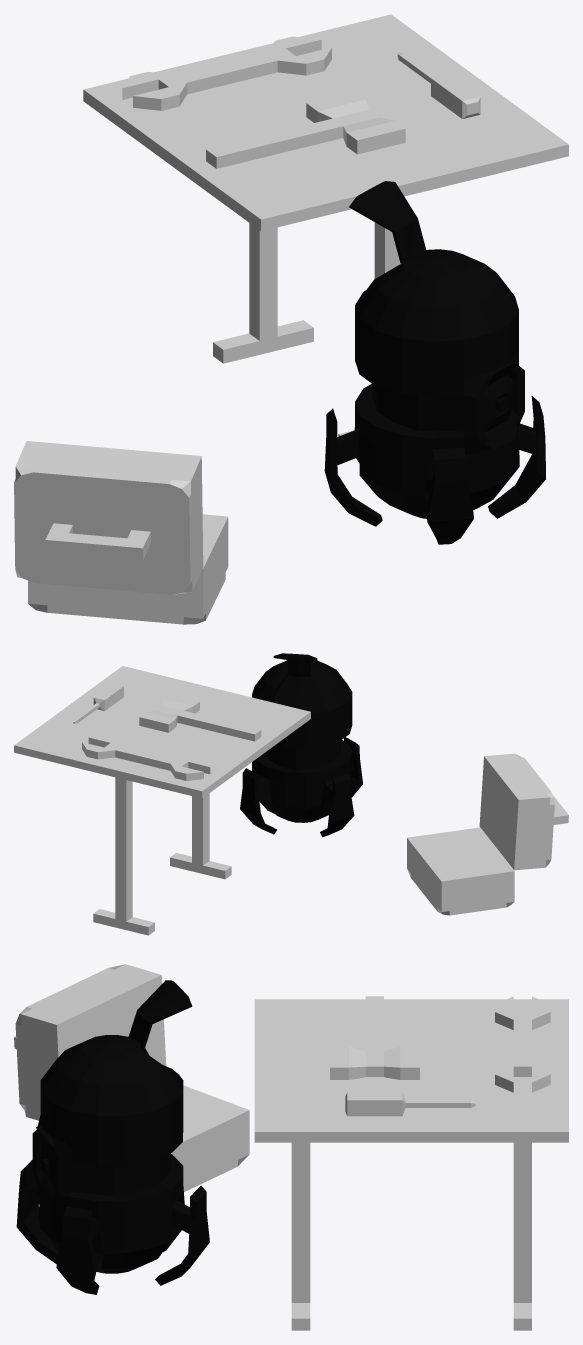
Rendered from Hex_Skills_Tile_No_Model.glb.
3 renders of one model, top to bottom at view 1: azimuth 30°, elevation 25°; view 2: azimuth 150°, elevation 25°; view 3: azimuth 270°, elevation 25°, orthographic. The views are drawn at different scales.
Visible parts, largest first — view 1: Sphere, Plane.001, Cube, Plane.002, Plane; view 2: Plane.001, Sphere, Cube, Plane.002, Plane; view 3: Sphere, Plane.001, Cube, Plane.002, Plane.
Boxes of the visible parts, left/top/right/bottom form: Sphere: left=324, top=181, right=545, bottom=544; Plane.001: left=83, top=14, right=568, bottom=231; Cube: left=14, top=441, right=228, bottom=624; Plane.002: left=122, top=36, right=480, bottom=168; Plane: left=213, top=222, right=401, bottom=436; Plane.001: left=14, top=666, right=310, bottom=798; Sphere: left=240, top=653, right=362, bottom=837; Cube: left=407, top=753, right=568, bottom=915; Plane.002: left=73, top=683, right=261, bottom=780; Plane: left=93, top=777, right=231, bottom=935; Sphere: left=16, top=980, right=209, bottom=1294; Plane.001: left=254, top=999, right=568, bottom=1142; Cube: left=14, top=964, right=249, bottom=1191; Plane.002: left=330, top=996, right=550, bottom=1116; Plane: left=291, top=1142, right=531, bottom=1330.
Size of the model in its own units: 4.1 by 2.06 by 3.53.
Materials: 1 (1 with a texture image).
